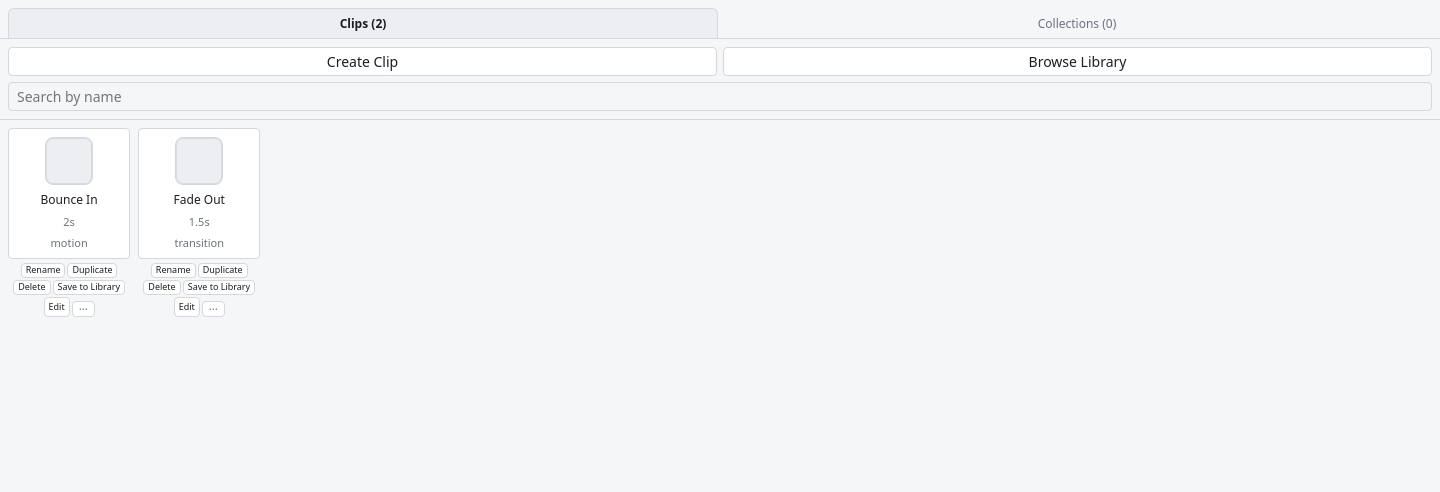
it: AnimationsPanel › shows a no-match message when the search filters everything out
Expected: the text "Bounce In" is shown, [41,191,98,208]
Type "zzz" into the search field named "Search clips" at coordinates (720, 96), box [8,82,1432,111]
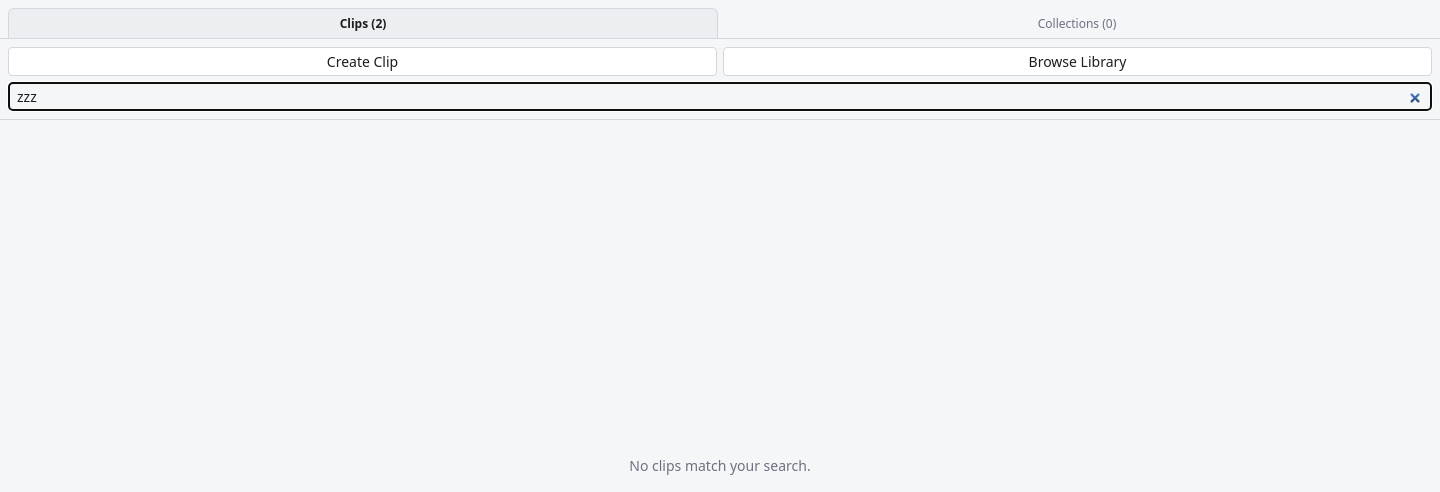
Now the text "No clips match your search." is shown, box [629,456,811,474]
